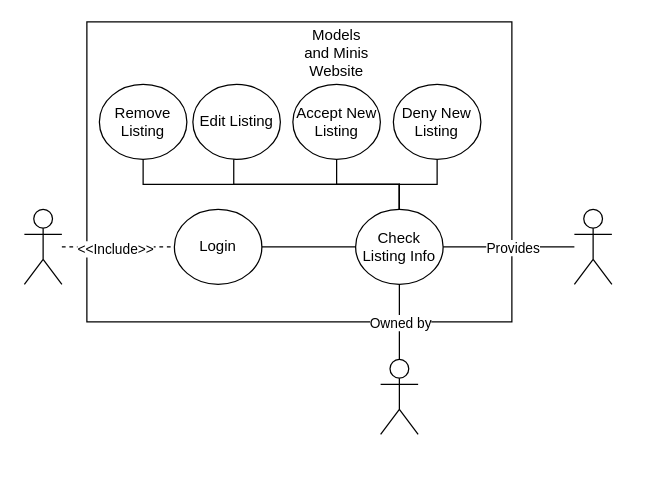
This 646x483 diagram has some shape labels left out. Here are the shapes that lost their labels. From the top down, the centre of each, then its label:
At point 42,246: "Admin".
At point 592,246: "Database".
At point 398,396: "User".
